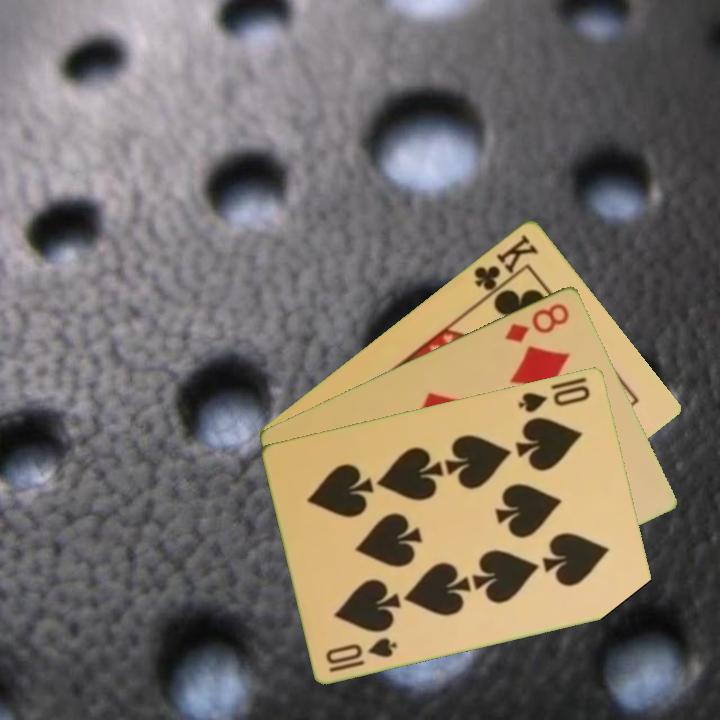10s: (322, 633, 401, 675), (514, 381, 593, 415)
8d: (501, 299, 573, 345)
Kc: (470, 230, 542, 301)
